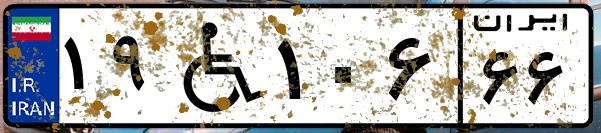0: (330, 28, 385, 110)
1: (270, 28, 330, 110), (57, 26, 110, 100)
6: (385, 28, 445, 110), (475, 38, 525, 113), (525, 38, 570, 115)
9: (110, 28, 158, 98)
ژ (معلولین و جانبازان): (158, 12, 270, 120)
